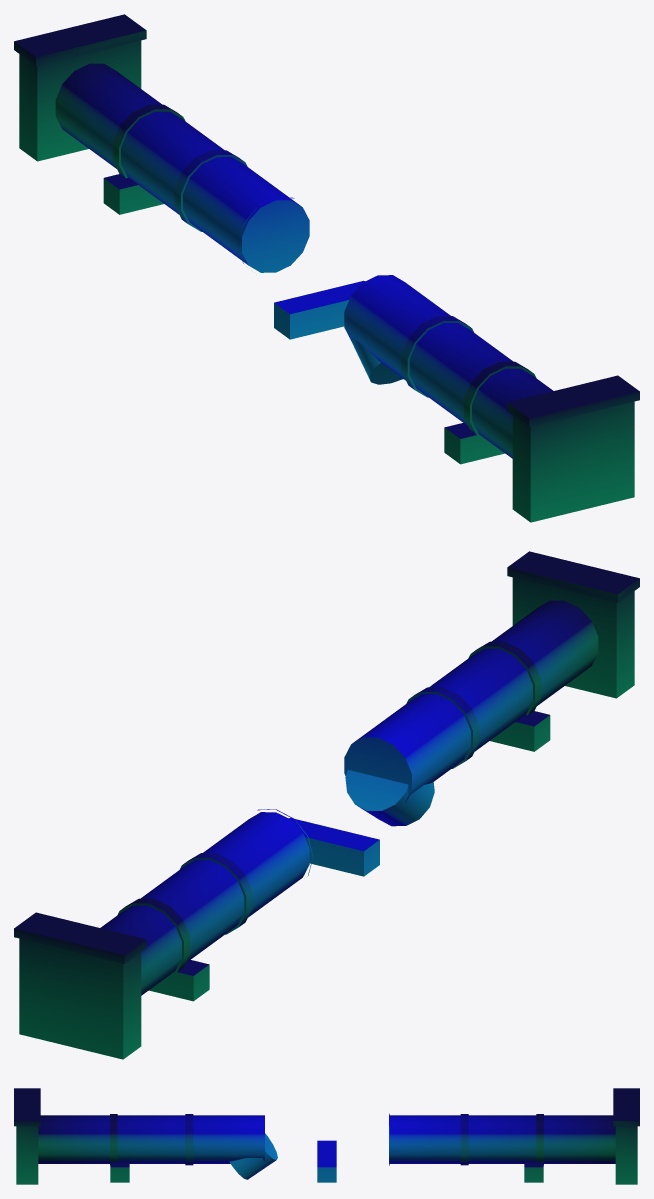
File: straightpipe3_damaged.glb
3 views of the same model, one above another, from view 1: azimuth 30°, elevation 25°; view 2: azimuth 150°, elevation 25°; view 3: azimuth 270°, elevation 25° (orthographic). The views are drawn at different scales.
Parts seen in each view (by area): view 1: lod0; view 2: lod0; view 3: lod0.
Boxes of the visible parts, x1,y1,x2,y2 form: lod0: (14, 14, 639, 522); lod0: (14, 551, 639, 1059); lod0: (14, 1088, 639, 1184).
Size of what is drawn, in the model's own units: 3.2 by 3.31 by 25.8.
